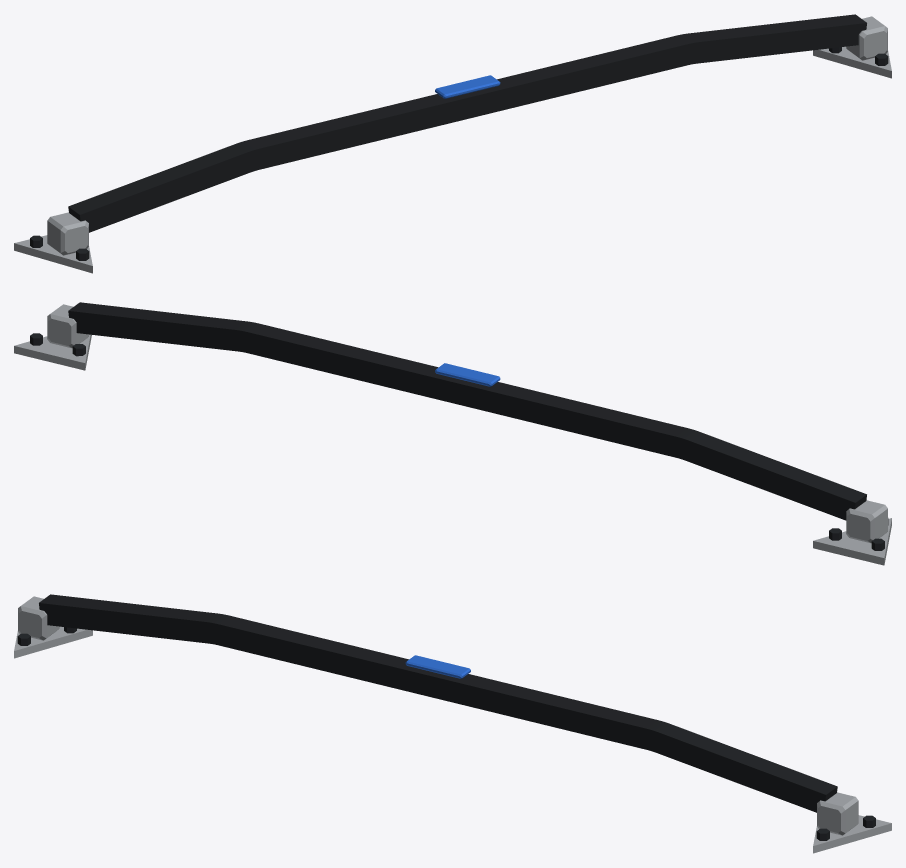
The model's file is kaze_gt.glb.
3 renders of one model, top to bottom at view 1: azimuth 30°, elevation 25°; view 2: azimuth 150°, elevation 25°; view 3: azimuth 330°, elevation 25°, orthographic.
Visible parts, largest first — view 1: model; view 2: model; view 3: model.
Part boxes in pixels (bbox=[...]): model: bbox=[14, 14, 891, 273]; model: bbox=[14, 302, 891, 565]; model: bbox=[14, 594, 891, 853].
Bounding box in the file's own units: 1.22 × 0.098 × 0.105.
Materials: 3 (1 with a texture image).
